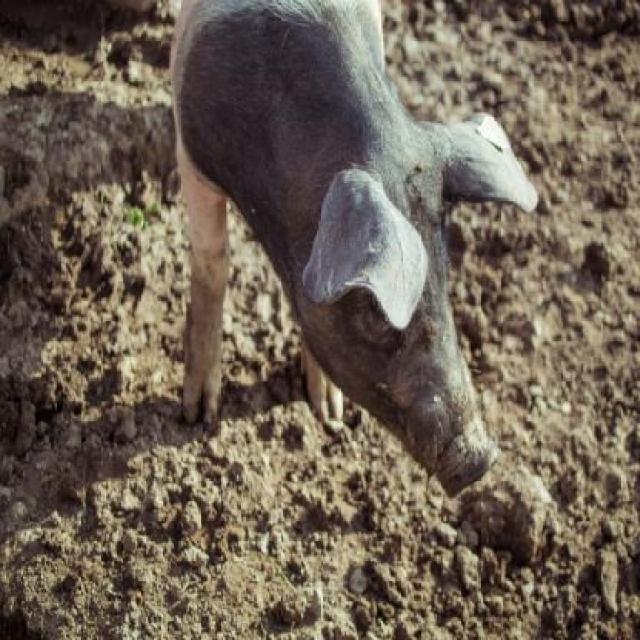pig: (167, 0, 538, 500)
